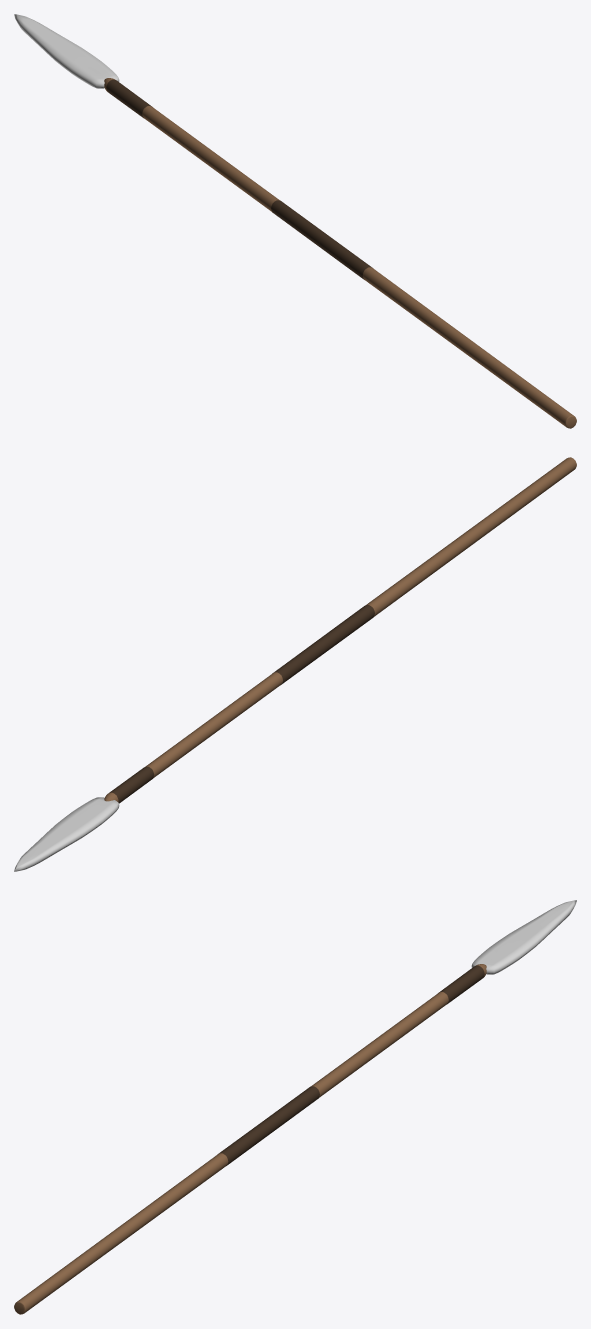
File: Spear_00.fbx
3 renders of one model, top to bottom at view 1: azimuth 30°, elevation 25°; view 2: azimuth 150°, elevation 25°; view 3: azimuth 330°, elevation 25°, orthographic.
Visible parts, largest first — view 1: Spear_00; view 2: Spear_00; view 3: Spear_00.
Boxes of the visible parts, x1,y1,x2,y2 form: Spear_00: (14, 14, 576, 428); Spear_00: (14, 457, 576, 871); Spear_00: (14, 900, 576, 1314).
Bounding box in the file's own units: 5.21 × 2.18 × 160.
